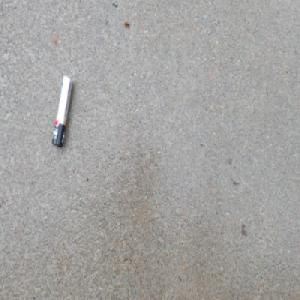Battery: (50, 73, 73, 149)
